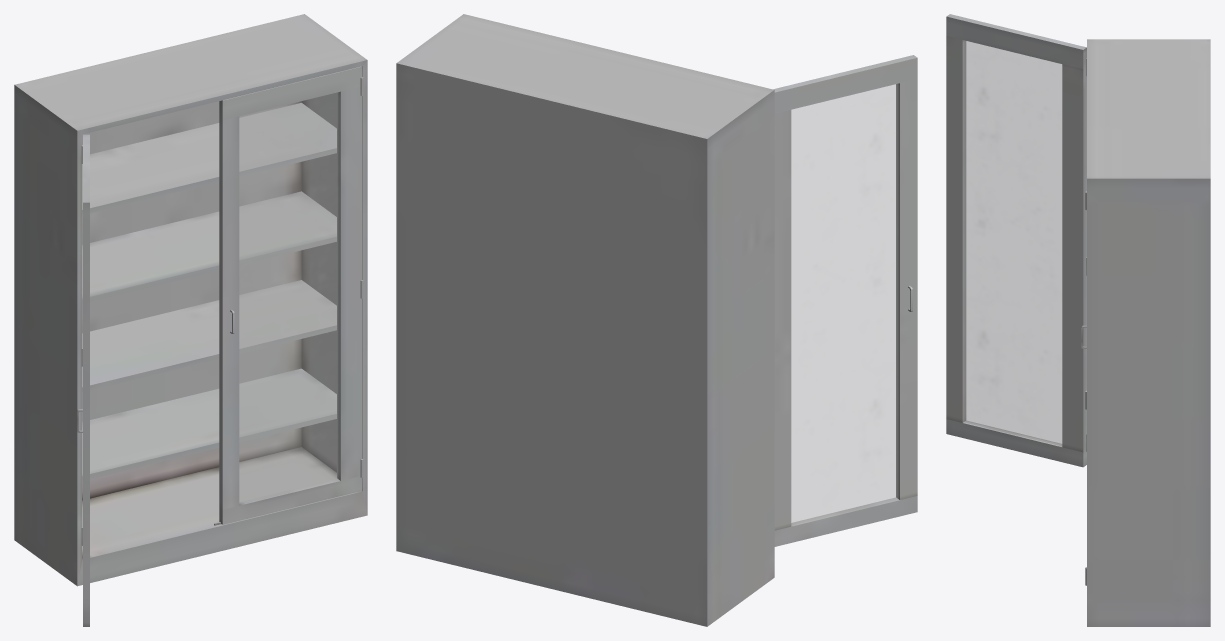
Rendered from lab-cabinet.lod1.glb.
The picture shows the model from 3 angles, left to right: view 1: azimuth 30°, elevation 25°; view 2: azimuth 150°, elevation 25°; view 3: azimuth 270°, elevation 25°; orthographic projection. The views are drawn at different scales.
Visible parts, largest first — view 1: lab_cabinet_body_NakedSingularity_metal_0, lab_cabinet_r_door_NakedSingularity_glass_0; view 2: lab_cabinet_body_NakedSingularity_metal_0, lab_cabinet_r_door_NakedSingularity_glass_0; view 3: lab_cabinet_body_NakedSingularity_metal_0, lab_cabinet_r_door_NakedSingularity_glass_0.
Part boxes in pixels (bbox=[...]): lab_cabinet_body_NakedSingularity_metal_0: bbox=[14, 14, 367, 626]; lab_cabinet_r_door_NakedSingularity_glass_0: bbox=[239, 92, 339, 503]; lab_cabinet_body_NakedSingularity_metal_0: bbox=[396, 14, 917, 626]; lab_cabinet_r_door_NakedSingularity_glass_0: bbox=[791, 84, 898, 524]; lab_cabinet_body_NakedSingularity_metal_0: bbox=[946, 14, 1210, 626]; lab_cabinet_r_door_NakedSingularity_glass_0: bbox=[964, 40, 1061, 445].
Size of the model in its own units: 1.47 by 1.8 by 0.9612.
2 materials, 2 textured.
